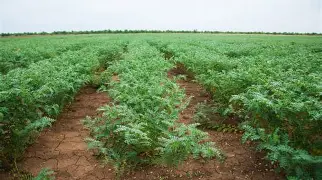crops: (176, 34, 320, 174), (85, 44, 190, 160), (0, 35, 99, 72), (16, 135, 69, 173), (226, 88, 281, 124), (27, 75, 75, 115), (282, 110, 321, 152), (111, 34, 170, 61), (159, 36, 230, 57), (0, 28, 166, 36), (156, 133, 194, 165), (237, 34, 322, 48), (113, 123, 154, 149), (81, 130, 115, 160), (101, 151, 138, 178), (16, 115, 55, 138), (188, 103, 223, 127), (202, 56, 240, 76), (201, 29, 320, 35), (238, 122, 269, 145), (262, 142, 295, 163), (195, 142, 222, 161), (107, 86, 131, 106), (173, 93, 194, 115), (211, 120, 243, 134), (0, 86, 22, 104), (144, 105, 166, 122), (85, 70, 107, 86), (30, 166, 55, 179), (285, 99, 308, 113), (170, 121, 190, 136), (221, 48, 250, 57), (35, 47, 54, 60), (308, 108, 322, 122), (161, 100, 174, 115), (270, 126, 280, 144), (228, 94, 244, 105), (48, 102, 59, 116), (0, 104, 10, 117), (160, 117, 172, 127), (95, 84, 108, 93), (120, 41, 129, 54), (221, 106, 232, 116), (307, 45, 322, 52), (94, 105, 109, 112), (174, 73, 187, 81), (44, 86, 55, 95), (152, 146, 165, 153)
